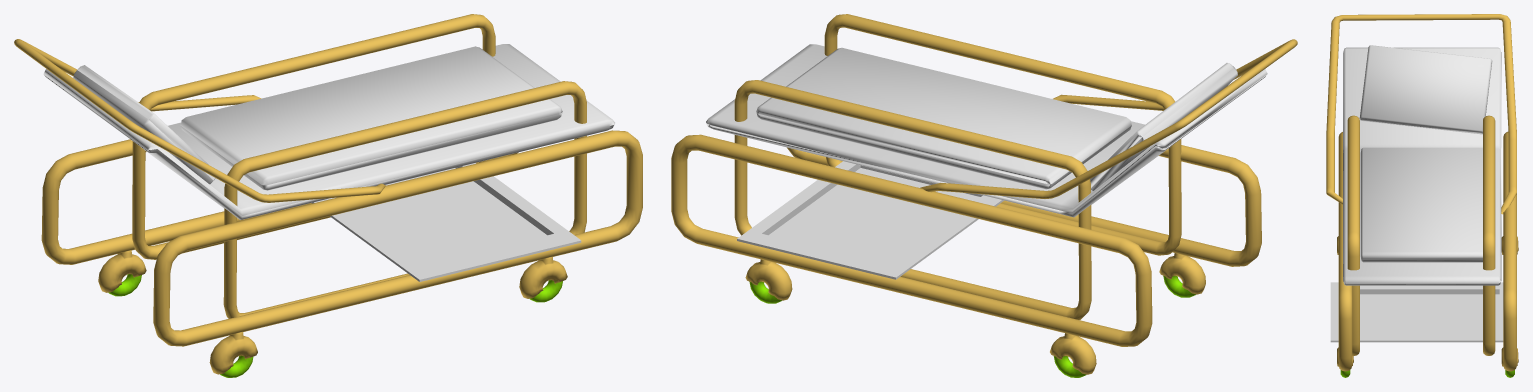
File: Stretcher2.fbx
The picture shows the model from 3 angles, left to right: view 1: azimuth 30°, elevation 25°; view 2: azimuth 150°, elevation 25°; view 3: azimuth 270°, elevation 25°; orthographic projection. The views are drawn at different scales.
Visible parts, largest first — view 1: Torus.006, Plane.014, Plane.004, Plane.010, Plane.007, Torus.005; view 2: Torus.006, Plane.014, Plane.004, Plane.010, Plane.007, Torus.005; view 3: Torus.006, Plane.014, Plane.010, Plane.007, Plane.004.
Boxes of the visible parts, x1,y1,x2,y2 form: Torus.006: (14, 14, 642, 374); Plane.014: (180, 46, 562, 190); Plane.004: (312, 163, 581, 281); Plane.010: (43, 44, 614, 219); Plane.007: (73, 65, 215, 184); Torus.005: (108, 274, 562, 377); Torus.006: (671, 14, 1297, 374); Plane.014: (756, 47, 1131, 189); Plane.004: (737, 161, 1003, 279); Plane.010: (706, 44, 1267, 217); Plane.007: (1090, 63, 1237, 190); Torus.005: (749, 275, 1195, 377); Torus.006: (1326, 14, 1518, 371); Plane.014: (1360, 147, 1482, 262); Plane.010: (1343, 47, 1501, 285); Plane.007: (1359, 45, 1492, 134); Plane.004: (1330, 282, 1503, 342).
Bounding box in the file's own units: 243 × 128 × 105.
